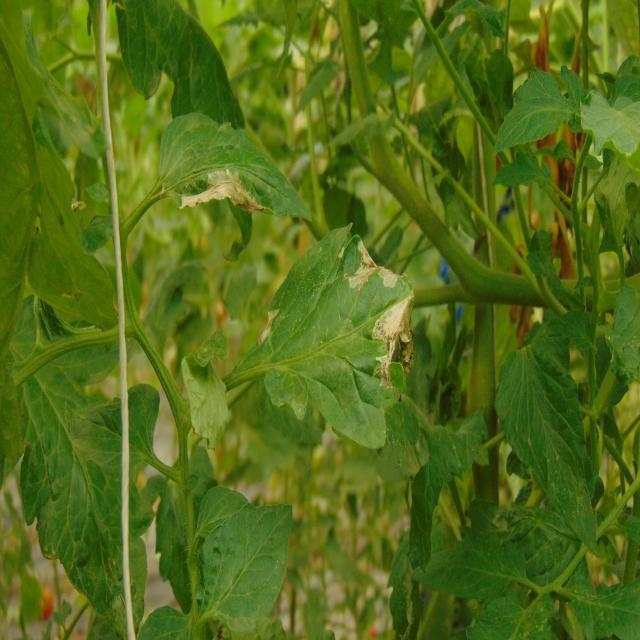Tuta absoluta: (341, 240, 406, 303), (371, 294, 414, 388), (180, 167, 266, 212), (257, 307, 280, 346)
